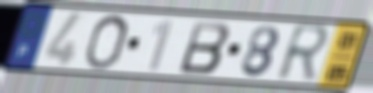1: (147, 18, 175, 72)
4: (41, 10, 84, 71)
8: (241, 24, 282, 78)
B: (176, 19, 233, 75)
O: (82, 14, 131, 72)
R: (273, 22, 334, 85)
